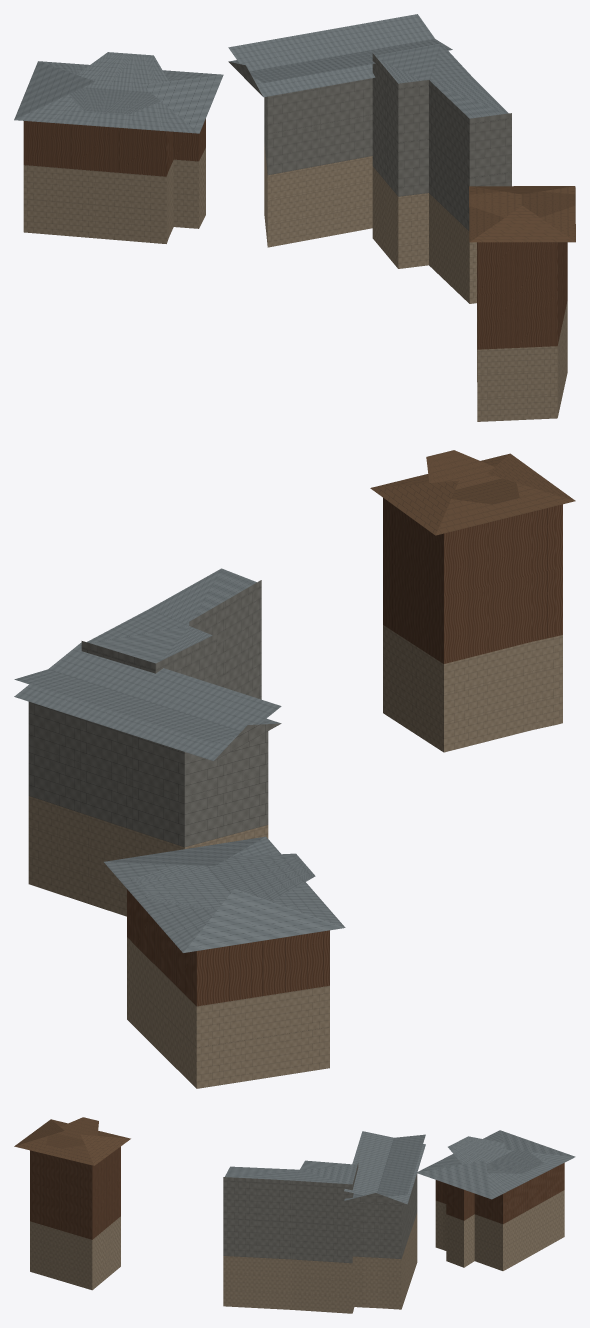
Rendered from bld_c-13_27_474.gltf.
The picture shows the model from 3 angles, top to bottom: view 1: azimuth 30°, elevation 25°; view 2: azimuth 150°, elevation 25°; view 3: azimuth 270°, elevation 25°; orthographic projection. The views are drawn at different scales.
Visible parts, largest first — view 1: bld_c-13_27_474; view 2: bld_c-13_27_474; view 3: bld_c-13_27_474.
Boxes of the visible parts, x1,y1,x2,y2 form: bld_c-13_27_474: (14, 14, 575, 421); bld_c-13_27_474: (14, 450, 575, 1088); bld_c-13_27_474: (14, 1117, 575, 1313).
Size of the model in its own units: 24.92 by 14.9 by 51.5.
6 materials, 6 textured.
